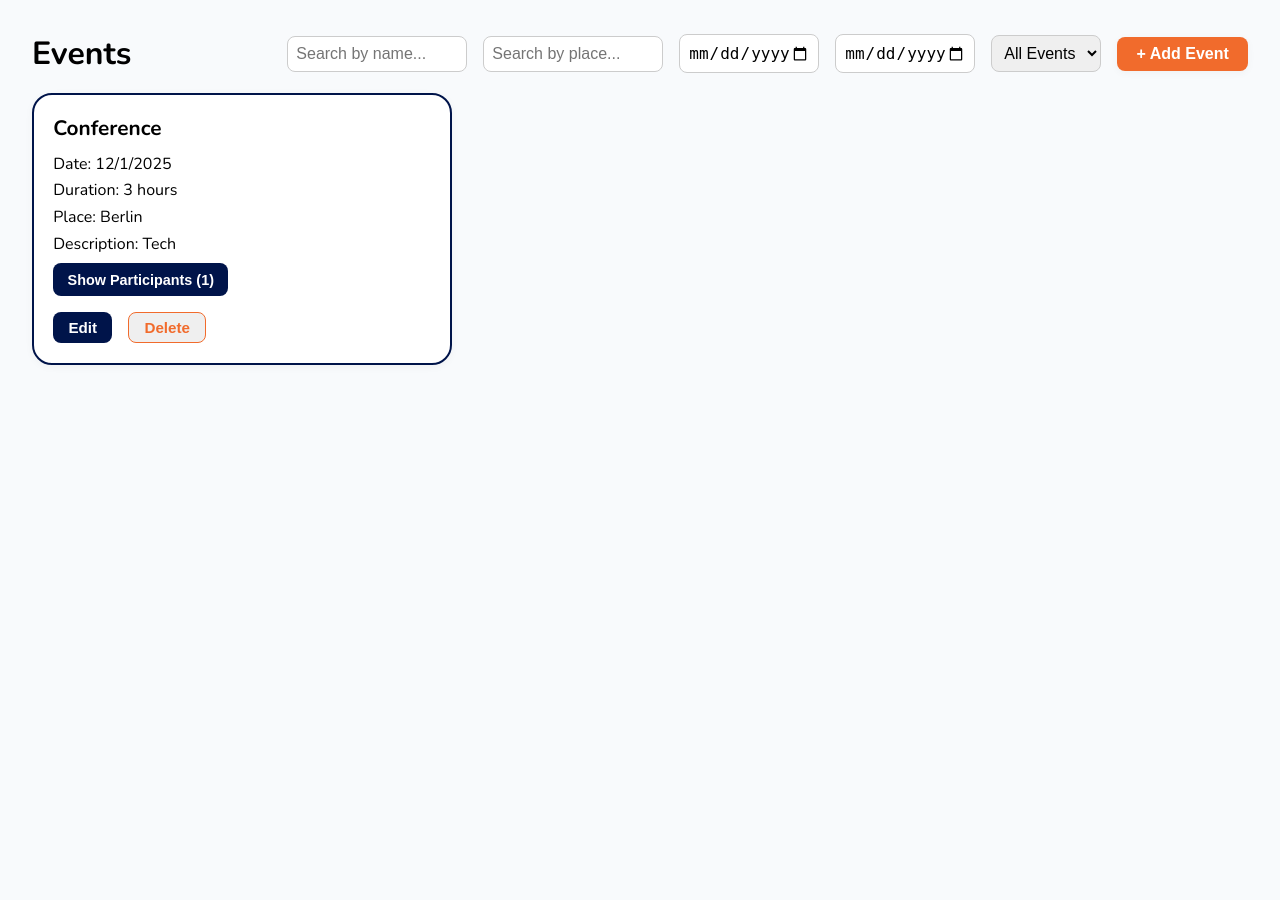
Test: EventsHome Component - Unit Tests › Event Display Features › should open participants modal when Show Participants button is clicked
Click the button "Show Participants (1)" at (141, 280), box x1=53 y1=263 x2=228 y2=296
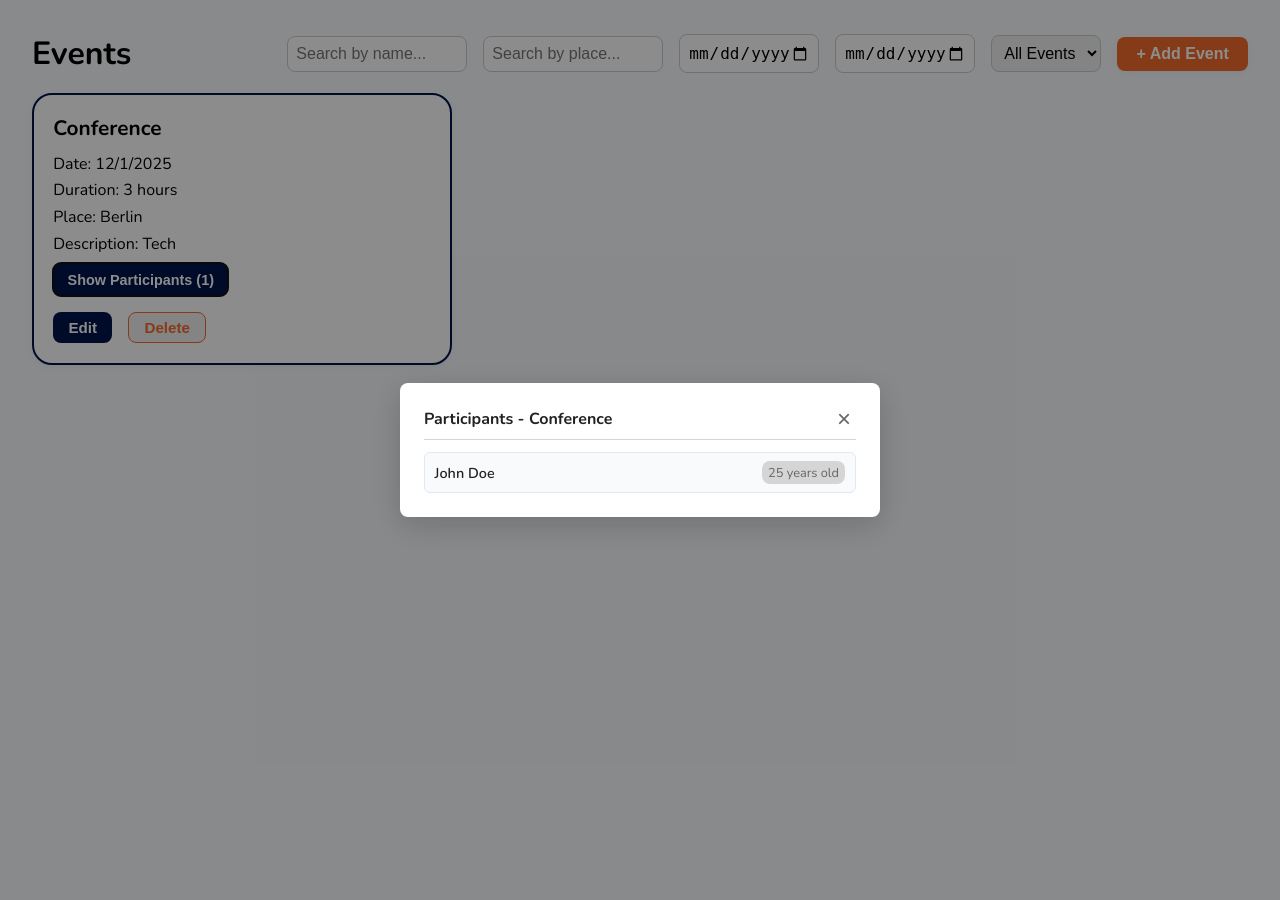
Expected: the heading "Participants - Conference" is shown, x1=424 y1=408 x2=612 y2=430
Expected: the text "John Doe" is shown, x1=435 y1=463 x2=495 y2=483
Expected: the text "25 years old" is shown, x1=762 y1=461 x2=845 y2=484
